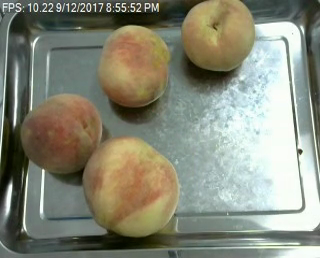Peach: (82, 134, 178, 237), (20, 92, 103, 174), (98, 24, 170, 107), (181, 0, 255, 72)
